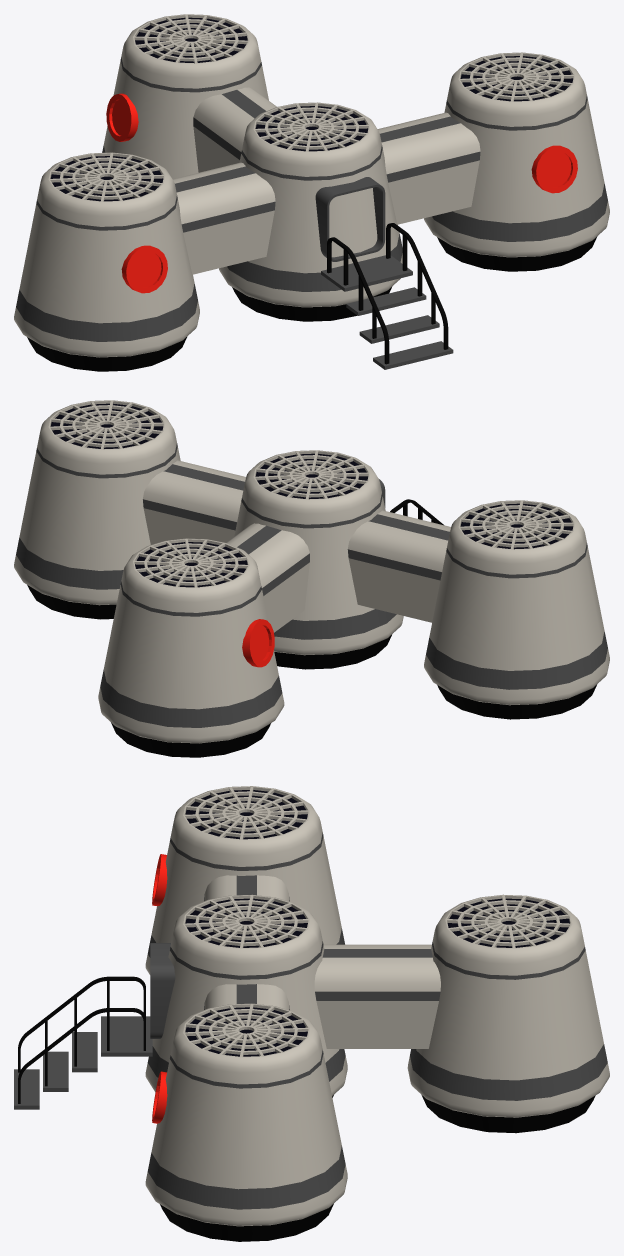
File: 02 Space_house.FBX.glb
3 views of the same model, one above another, from view 1: azimuth 30°, elevation 25°; view 2: azimuth 150°, elevation 25°; view 3: azimuth 270°, elevation 25° (orthographic). The views are drawn at different scales.
Visible parts, largest first — view 1: Space_house.2; view 2: Space_house.2; view 3: Space_house.2.
Part boxes in pixels (x1=…): Space_house.2: x1=14, y1=14, x2=609, y2=371; Space_house.2: x1=14, y1=400, x2=609, y2=757; Space_house.2: x1=14, y1=786, x2=609, y2=1241.
Bounding box in the file's own units: 8358 × 2265 × 6950.
